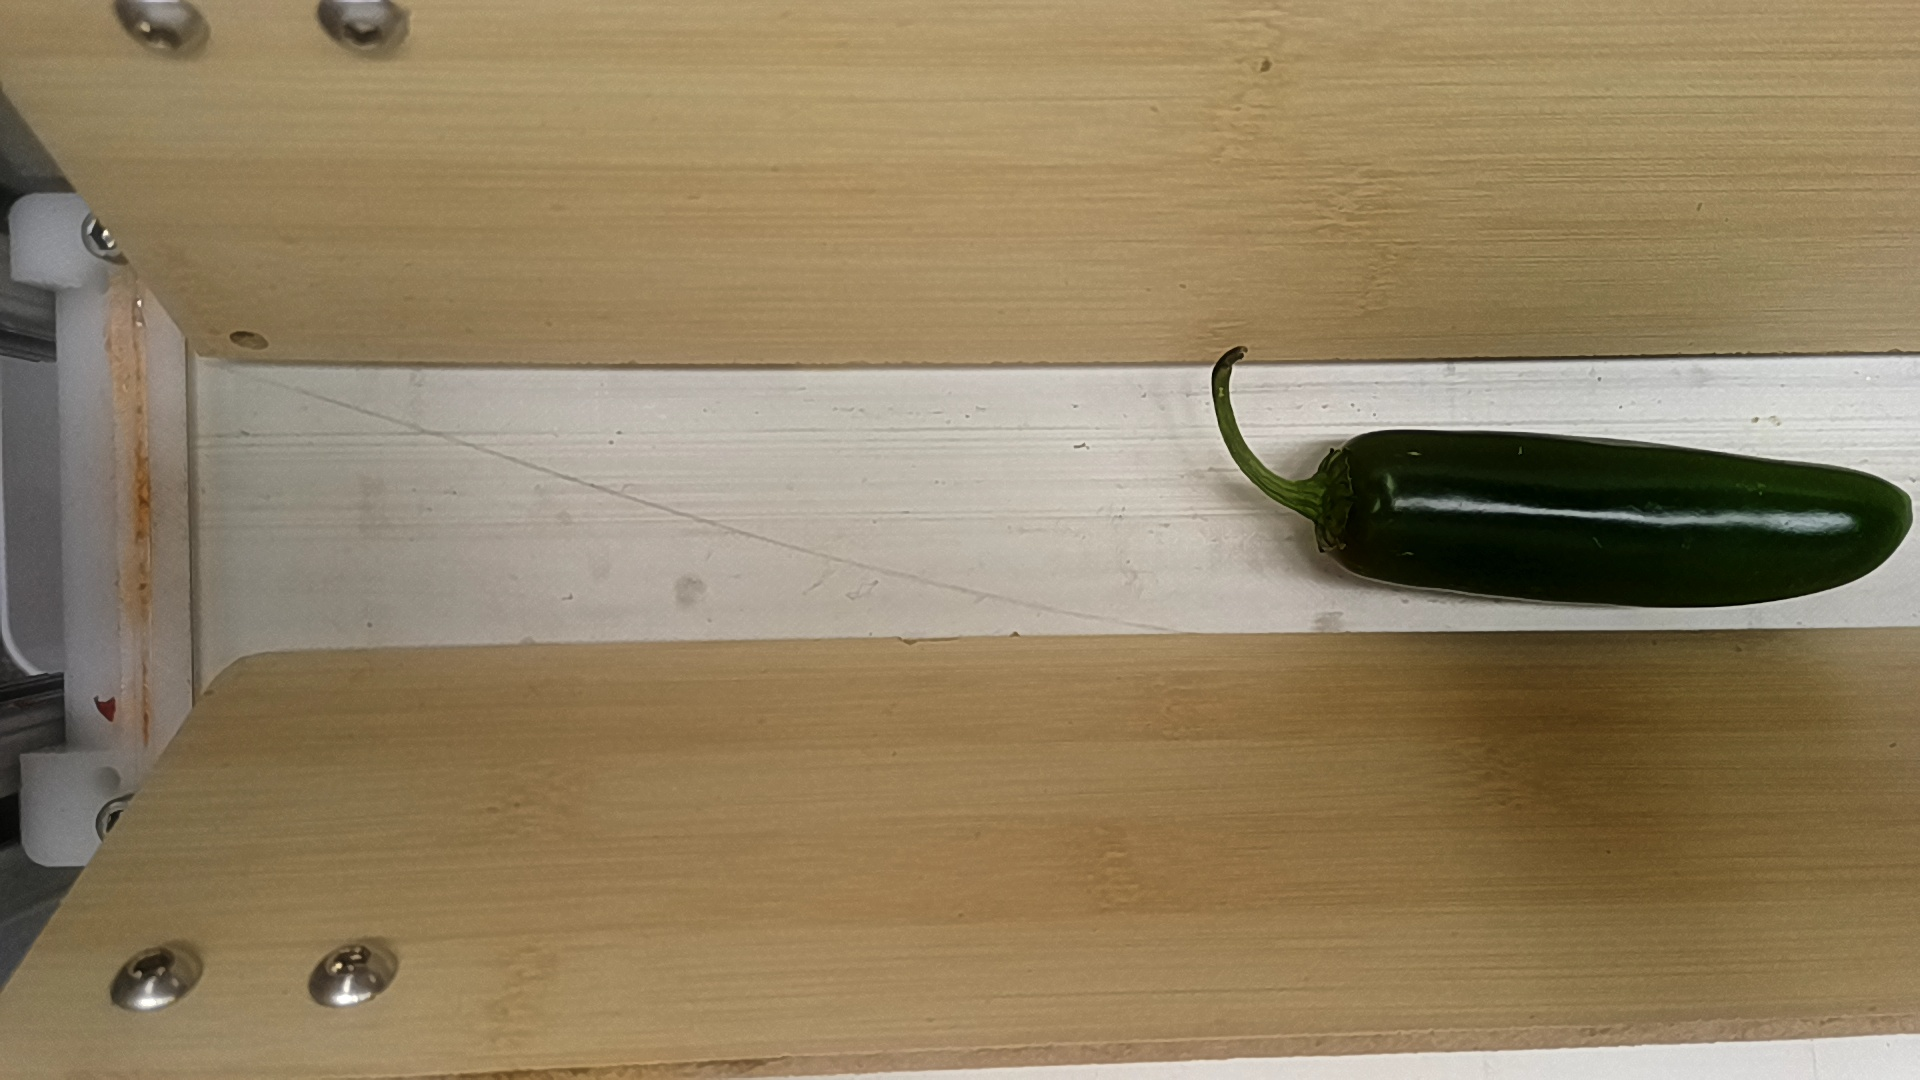Cut Point: (1305, 425, 1385, 589)
